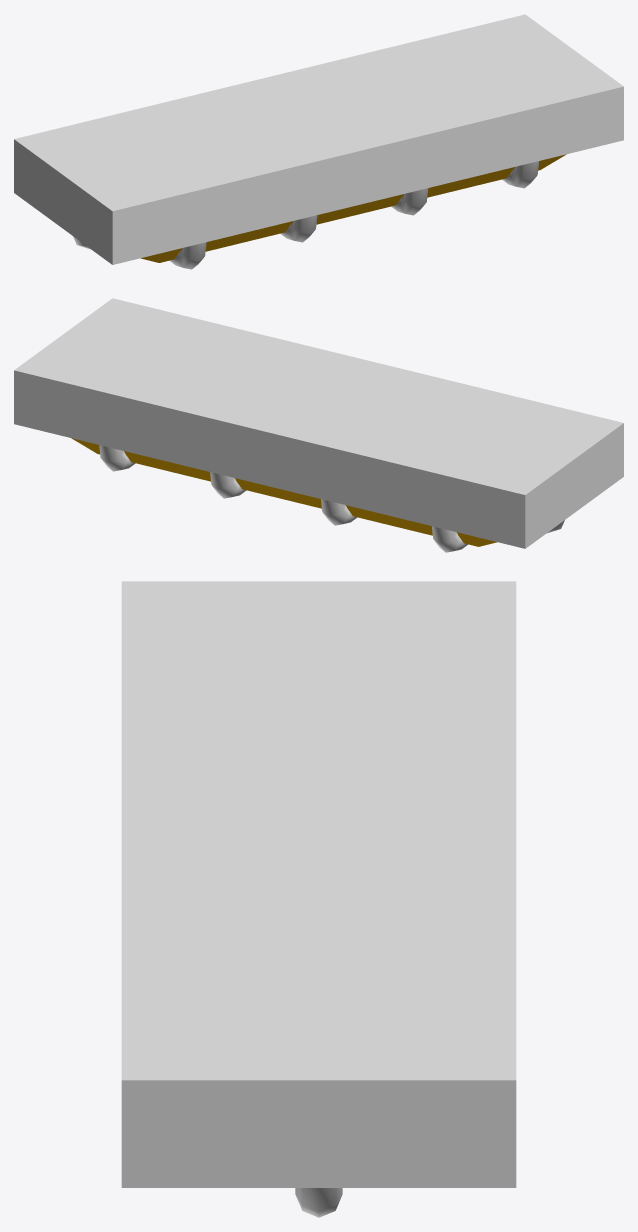
File: Light.fbx
The picture shows the model from 3 angles, top to bottom: view 1: azimuth 30°, elevation 25°; view 2: azimuth 150°, elevation 25°; view 3: azimuth 270°, elevation 25°; orthographic projection. The views are drawn at different scales.
Parts seen in each view (by area): view 1: Light 1; view 2: Light 1; view 3: Light 1.
Boxes of the visible parts, x1=… form: Light 1: x1=14, y1=14, x2=623, y2=269; Light 1: x1=14, y1=298, x2=623, y2=552; Light 1: x1=121, y1=581, x2=516, y2=1217.
Bounding box in the file's own units: 200 × 34.45 × 66.8.
